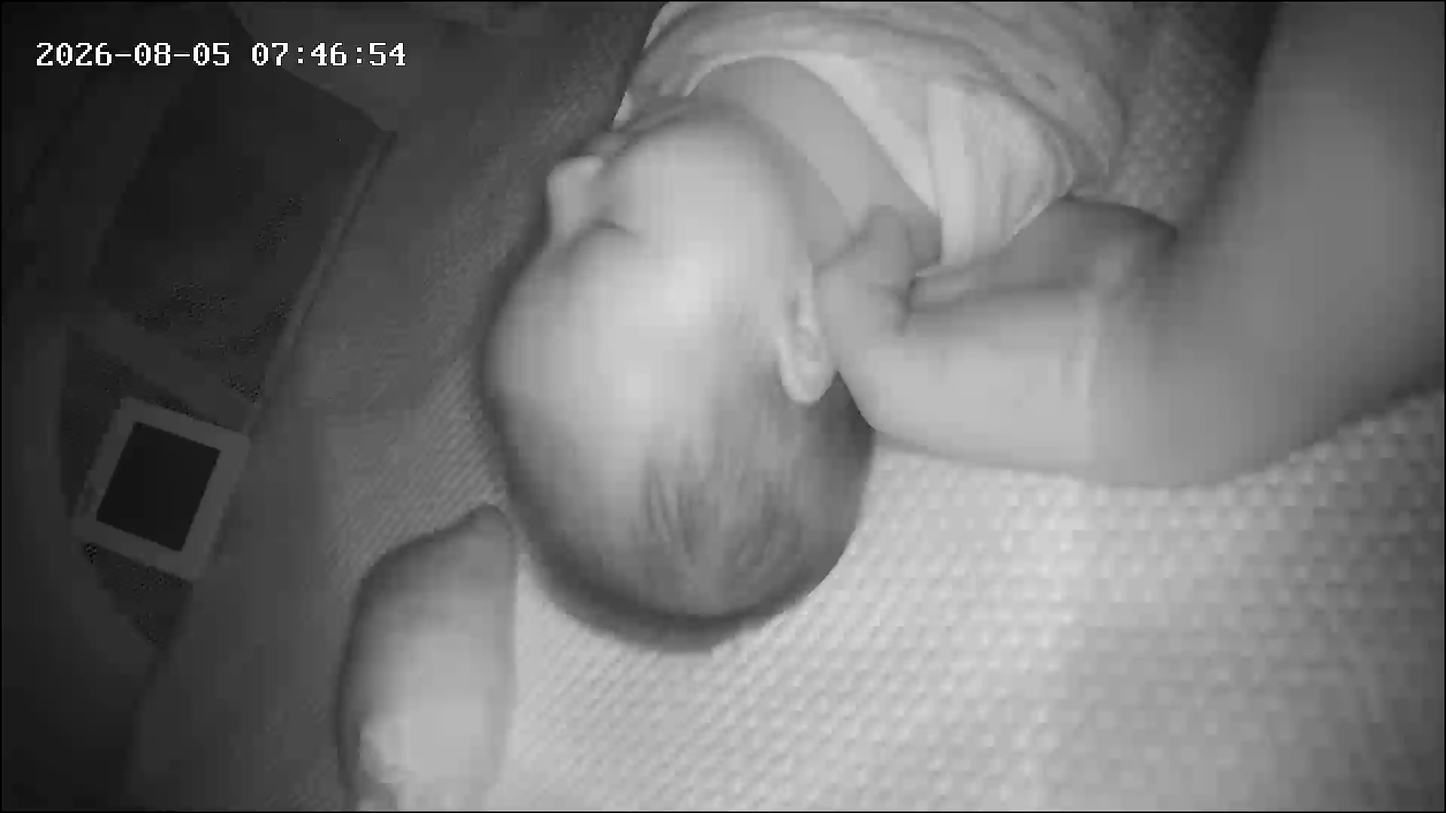baby: (0, 1, 983, 664), (406, 0, 1241, 664)
baby_face: (462, 85, 906, 640)
